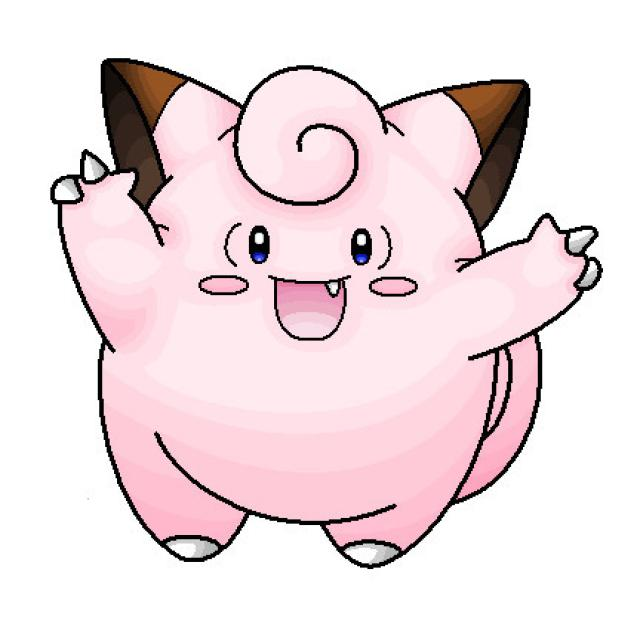Clefairy: (90, 58, 539, 564)
